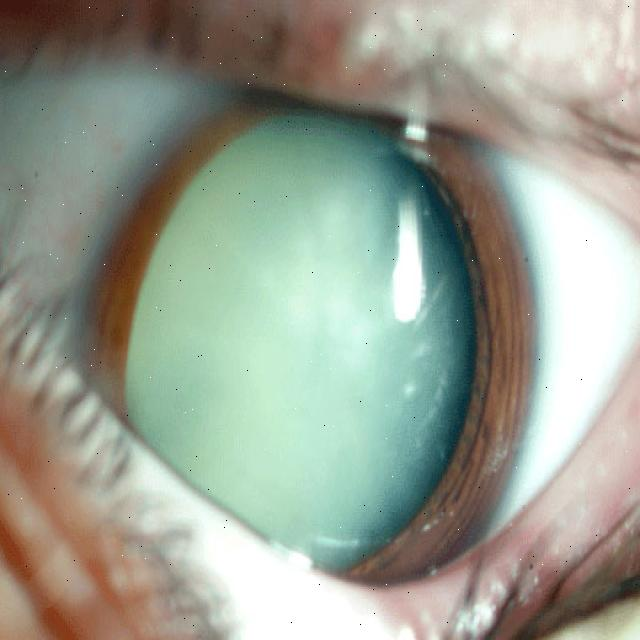Cataract: (73, 71, 540, 628)
